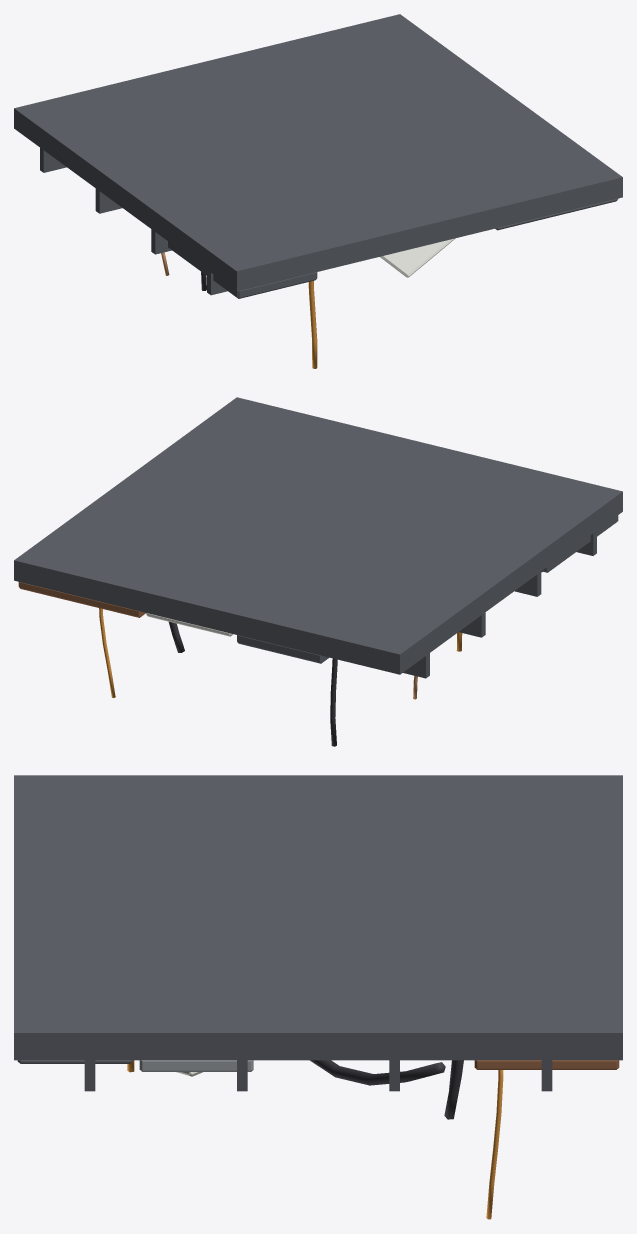
The model's file is ceil_cables.glb.
3 renders of one model, top to bottom at view 1: azimuth 30°, elevation 25°; view 2: azimuth 150°, elevation 25°; view 3: azimuth 270°, elevation 25°, orthographic. The views are drawn at different scales.
Parts seen in each view (by area): view 1: ceil_cables; view 2: ceil_cables; view 3: ceil_cables.
Part boxes in pixels (x1=…): ceil_cables: x1=14, y1=14, x2=622, y2=368; ceil_cables: x1=14, y1=397, x2=622, y2=746; ceil_cables: x1=14, y1=775, x2=622, y2=1219.
Size of the model in its own units: 4 by 1.66 by 4.
